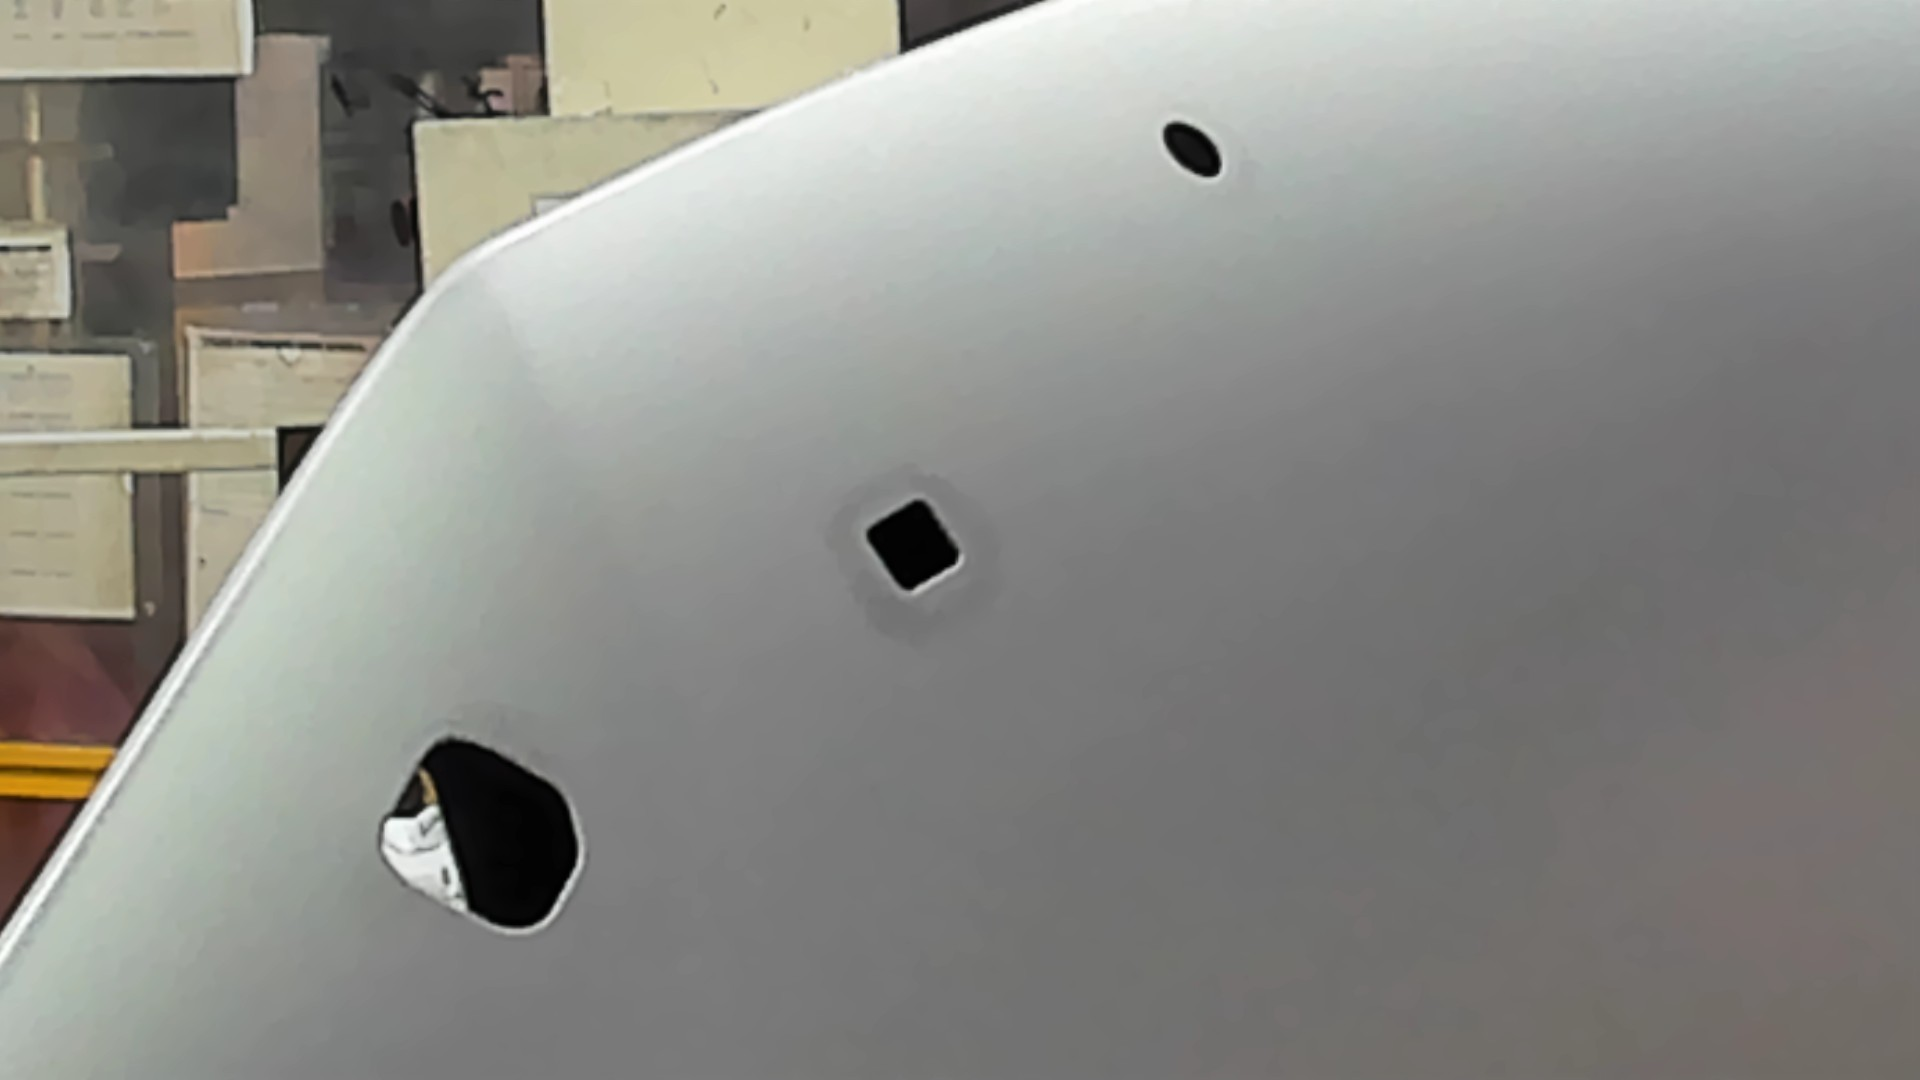chico: (1156, 117, 1226, 183)
grande: (375, 731, 588, 940)
mediano: (857, 488, 971, 604)
